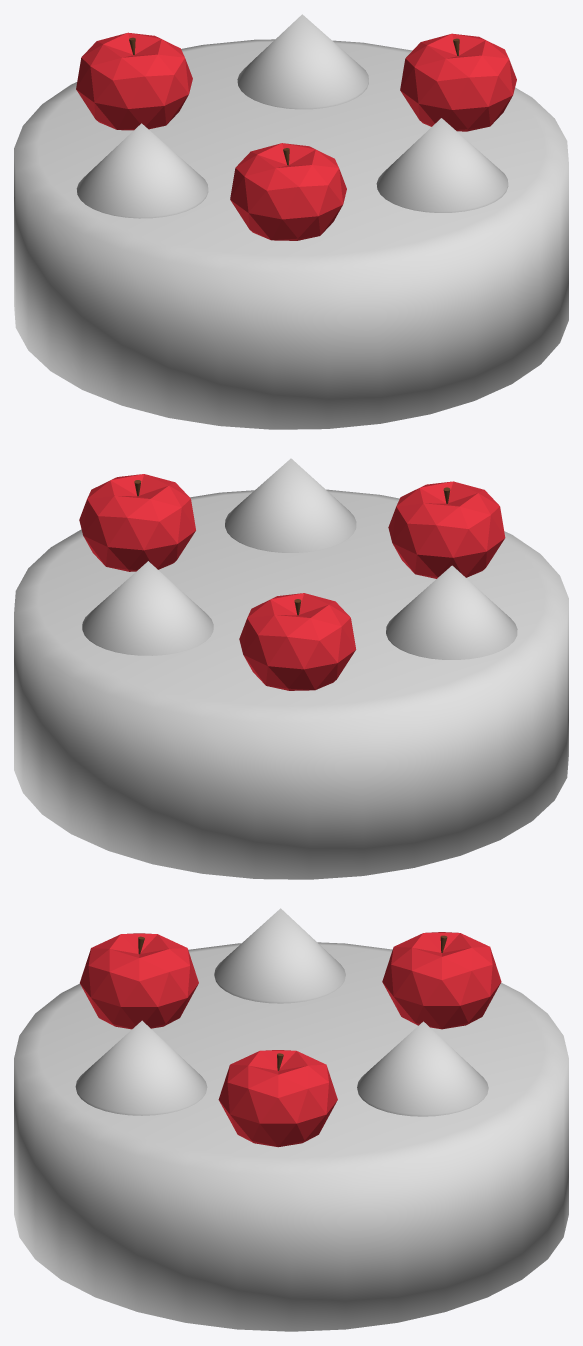
The model's file is ShortCake.fbx.
3 renders of one model, top to bottom at view 1: azimuth 30°, elevation 25°; view 2: azimuth 150°, elevation 25°; view 3: azimuth 270°, elevation 25°, orthographic.
Visible parts, largest first — view 1: 円柱, Cone.002, Cone.004, Cone.003, 円錐.002, 円錐, 円錐.001; view 2: 円柱, Cone.004, Cone.003, Cone.002, 円錐, 円錐.001, 円錐.002; view 3: 円柱, Cone.003, Cone.004, Cone.002, 円錐, 円錐.002, 円錐.001.
Boxes of the visible parts, bbox=[...] form: 円柱: bbox=[14, 39, 568, 429]; Cone.002: bbox=[230, 143, 346, 240]; Cone.004: bbox=[76, 32, 192, 130]; Cone.003: bbox=[400, 33, 516, 131]; 円錐.002: bbox=[376, 118, 508, 212]; 円錐: bbox=[237, 14, 368, 109]; 円錐.001: bbox=[76, 123, 208, 218]; 円柱: bbox=[14, 489, 568, 879]; Cone.004: bbox=[239, 593, 356, 690]; Cone.003: bbox=[79, 474, 195, 571]; Cone.002: bbox=[388, 481, 505, 578]; 円錐: bbox=[82, 561, 213, 655]; 円錐.001: bbox=[386, 565, 517, 659]; 円錐.002: bbox=[225, 458, 356, 552]; 円柱: bbox=[14, 942, 568, 1331]; Cone.003: bbox=[218, 1050, 337, 1147]; Cone.004: bbox=[382, 932, 501, 1029]; Cone.002: bbox=[80, 933, 198, 1029]; 円錐: bbox=[357, 1021, 488, 1116]; 円錐.002: bbox=[75, 1020, 207, 1115]; 円錐.001: bbox=[214, 908, 345, 1003].
Bounding box in the file's own units: 200 × 97.64 × 200.
